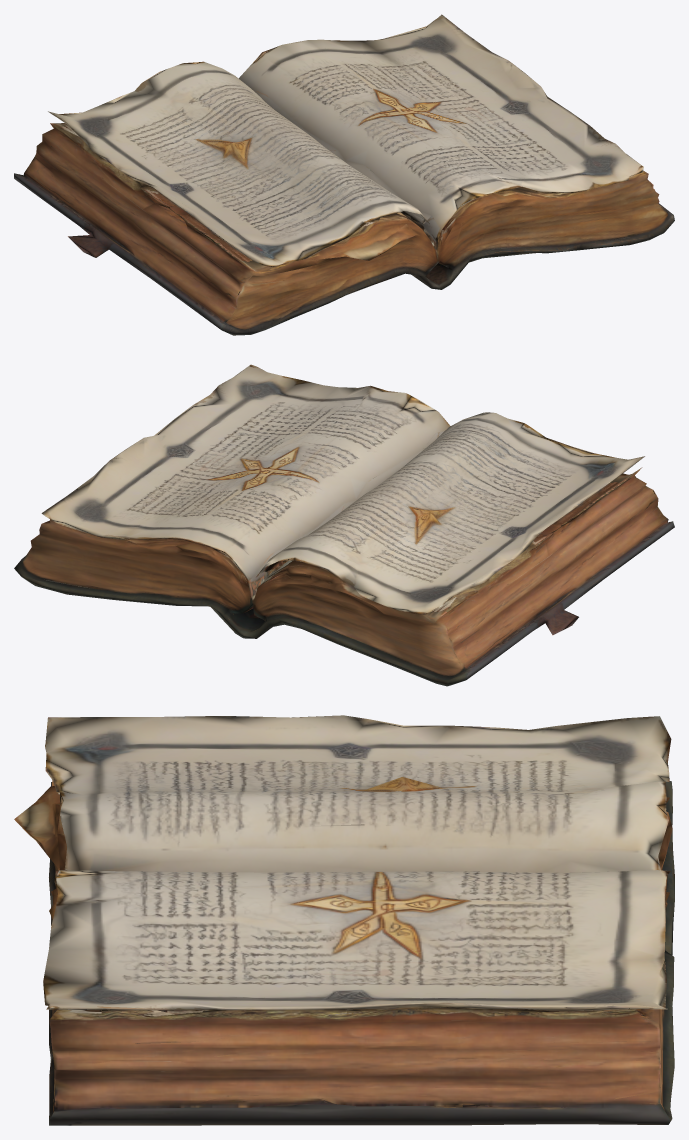
Rendered from Pages of Secrets.fbx.
The picture shows the model from 3 angles, top to bottom: view 1: azimuth 30°, elevation 25°; view 2: azimuth 150°, elevation 25°; view 3: azimuth 270°, elevation 25°; orthographic projection. The views are drawn at different scales.
Parts seen in each view (by area): view 1: Mesh1.0; view 2: Mesh1.0; view 3: Mesh1.0.
Part boxes in pixels (<box>): Mesh1.0: <box>14,14,674,335</box>; Mesh1.0: <box>14,364,674,686</box>; Mesh1.0: <box>14,715,674,1125</box>.
Bounding box in the file's own units: 534 × 100 × 434.
1 material, 1 textured.
